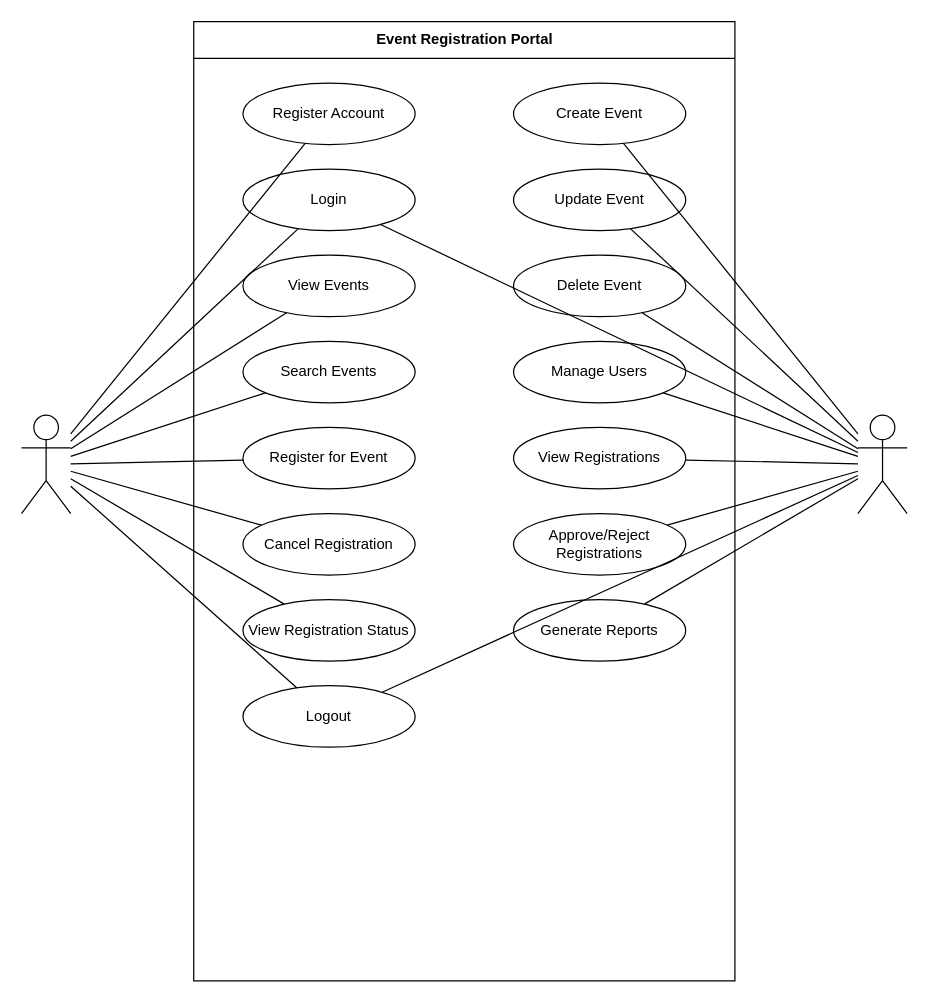
Image size: 929x1002. Some labels were removed from this diagram. Each missing label, with the centre of its shape:
Admin: the point at 882,464
User: the point at 45,464
